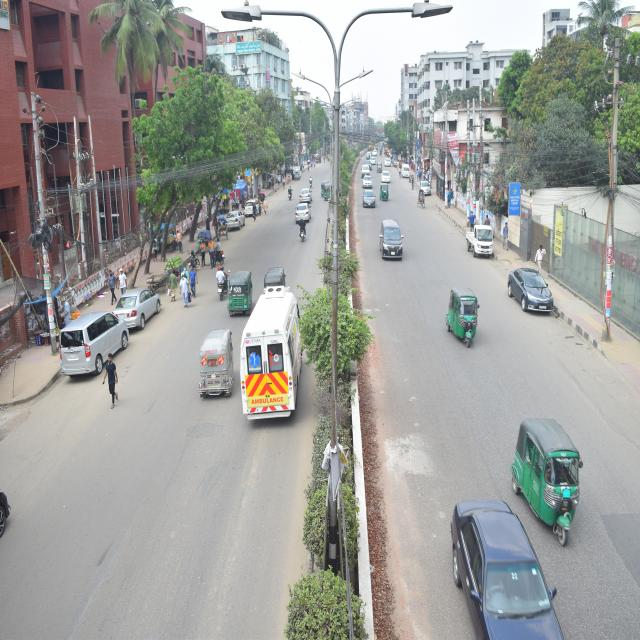car: (444, 488, 567, 640), (504, 264, 554, 324), (118, 285, 161, 335), (225, 209, 244, 235), (246, 198, 260, 221), (294, 205, 310, 223), (363, 191, 378, 210), (420, 177, 431, 198), (298, 188, 311, 204), (362, 174, 372, 192), (361, 163, 371, 175), (382, 170, 390, 181)
microbus: (59, 312, 132, 381), (378, 213, 412, 269), (402, 164, 412, 182)
motorbike: (216, 267, 231, 304), (298, 220, 308, 243), (287, 186, 292, 200)
pickup-van: (465, 223, 496, 268)
